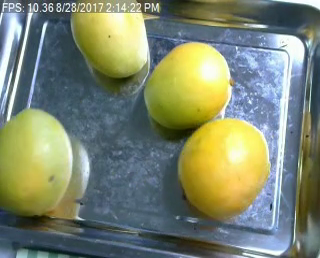Mango: (177, 119, 270, 219), (0, 108, 72, 214), (143, 41, 232, 126), (68, 2, 147, 77)
